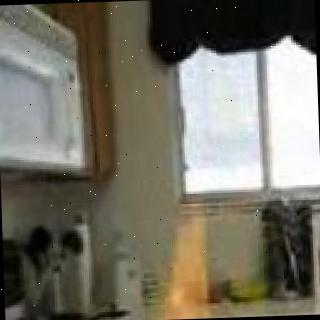fire: (121, 225, 266, 320)
